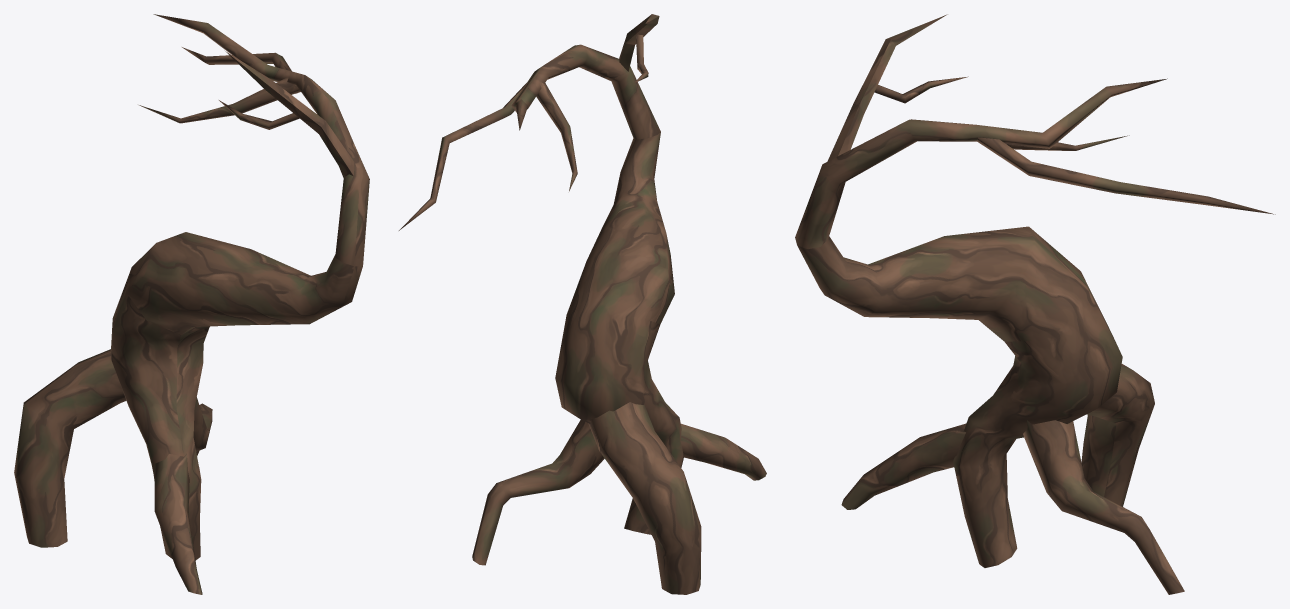
The model's file is Trees1_02_Trunk.fbx.
The picture shows the model from 3 angles, left to right: view 1: azimuth 30°, elevation 25°; view 2: azimuth 150°, elevation 25°; view 3: azimuth 270°, elevation 25°; orthographic projection. The views are drawn at different scales.
Visible parts, largest first — view 1: Trees1_02_Trunk; view 2: Trees1_02_Trunk; view 3: Trees1_02_Trunk.
Part boxes in pixels (x1,y1,x2,y2): Trees1_02_Trunk: (14,14,369,594); Trees1_02_Trunk: (399,14,766,594); Trees1_02_Trunk: (795,14,1275,594).
Size of the model in its own units: 411 by 760 by 591.
1 material, 1 textured.
